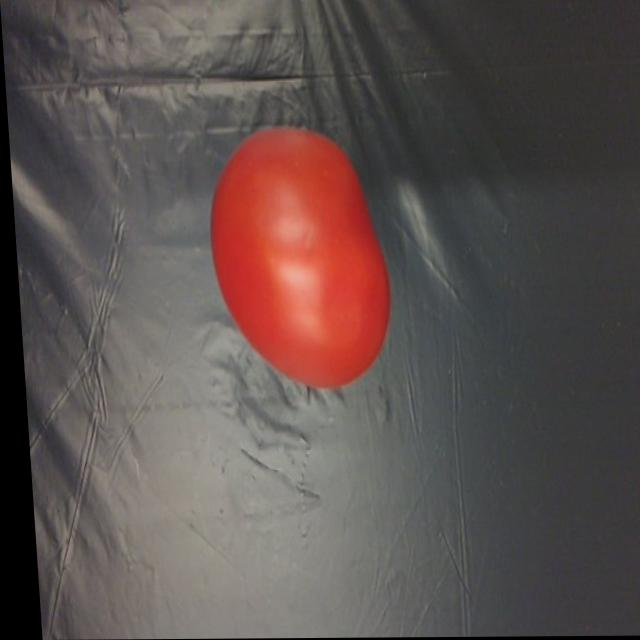kirmizi: (201, 121, 392, 385)
